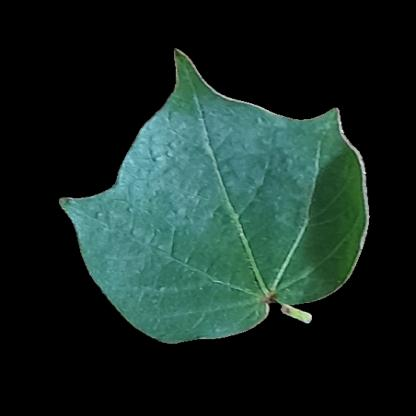healthy: (145, 134, 339, 292), (148, 291, 261, 332)
